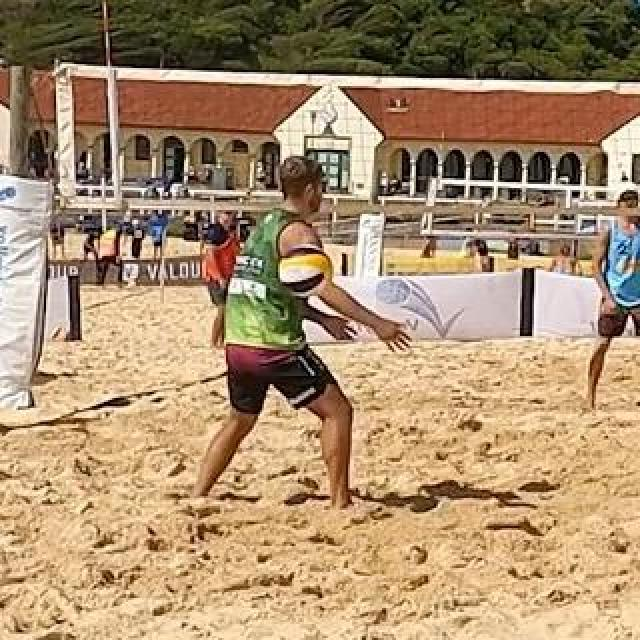volleyball: (279, 246, 331, 298)
